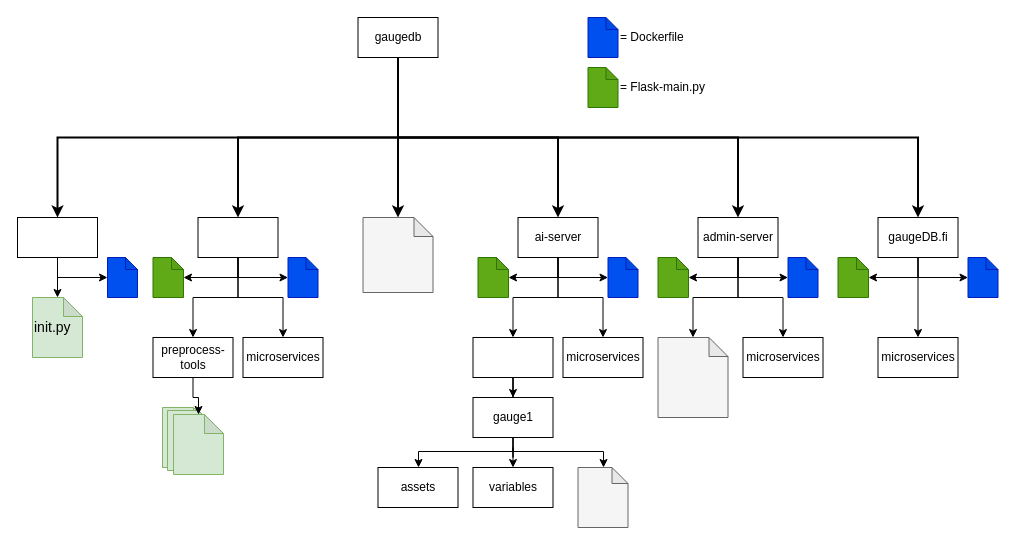
Image size: 1016x545. Some labels were removed from this diagram. Each missing label, with the centre of its shape:
ai-models: (x=512, y=357)
clean.py: (x=198, y=444)
data-preprocess-server: (x=237, y=237)
database: (x=57, y=237)
docker-compose .yml: (x=397, y=254)
gauge1 .bp: (x=602, y=497)
processed-games.csv: (x=692, y=377)
